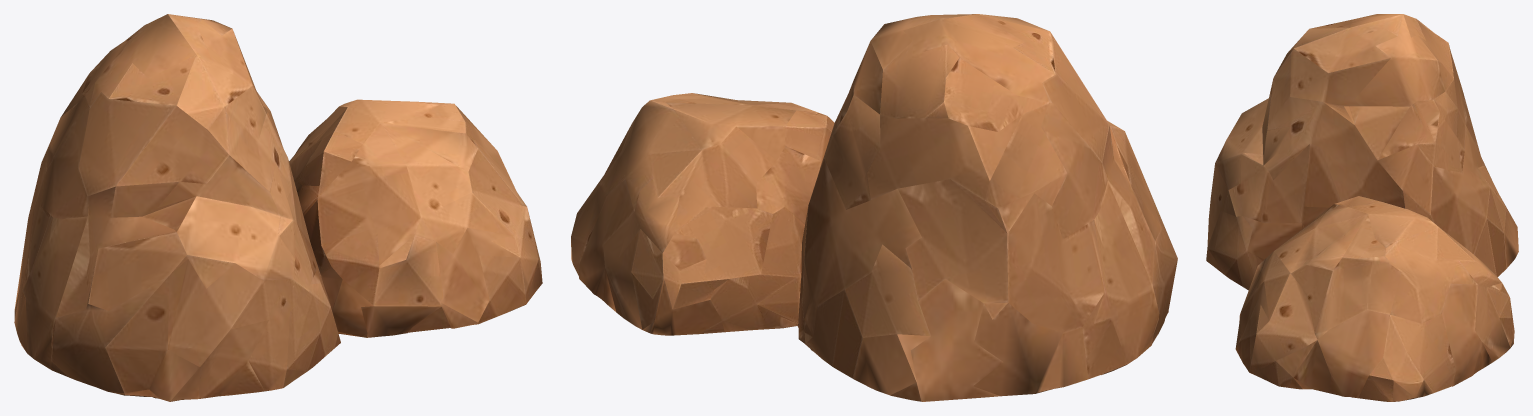
Rendered from rock-group.glb.
3 renders of one model, left to right at view 1: azimuth 30°, elevation 25°; view 2: azimuth 150°, elevation 25°; view 3: azimuth 270°, elevation 25°, orthographic. The views are drawn at different scales.
Size of the model in its own units: 1.9 by 1.06 by 1.21.
Materials: 1 (1 with a texture image).
